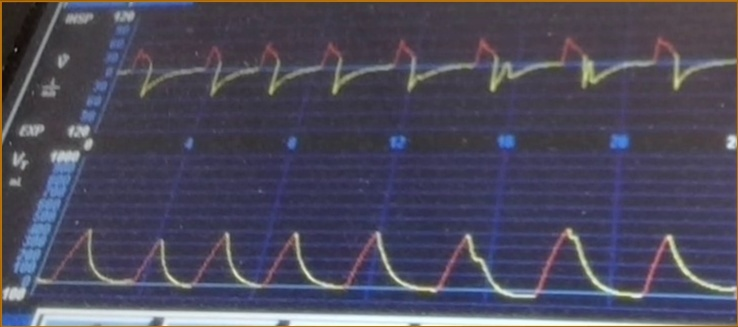Premature_cycling Flow: (127, 24, 733, 126)
Premature_cycling Volume: (48, 219, 734, 299)
